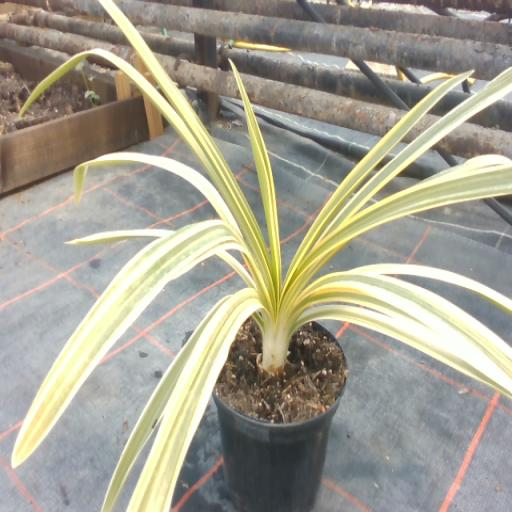Agapanthus-praecox: (12, 220, 271, 466), (99, 0, 270, 275), (100, 49, 274, 306), (286, 70, 473, 285), (326, 69, 511, 235), (127, 290, 262, 511), (302, 267, 511, 393), (299, 163, 511, 284), (102, 306, 219, 511), (294, 305, 511, 395), (74, 153, 238, 229), (230, 60, 281, 292), (350, 263, 511, 314), (65, 230, 174, 244), (219, 251, 254, 284)
